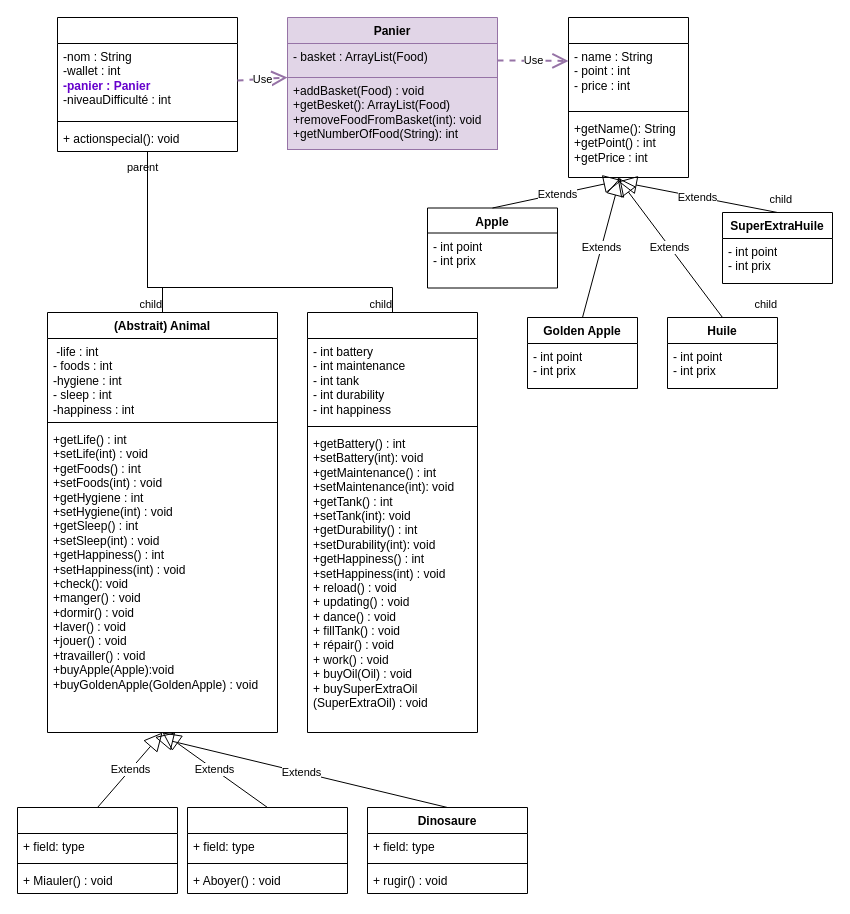
The diagram is 850 pixels wide and 914 high, and some of its shapes have lost their labels. Each missing label, with the box of its shape:
(Asbtrait) Tamagotchi: (56, 16, 238, 152)
Chat: (16, 806, 178, 894)
Chien: (186, 806, 348, 894)
Food: (568, 16, 688, 178)
Robot: (306, 312, 478, 732)
